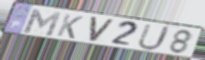2: (108, 21, 141, 50)
8: (168, 29, 194, 55)
K: (55, 13, 85, 40)
M: (22, 8, 63, 38)
U: (136, 23, 172, 52)
V: (88, 16, 116, 44)
